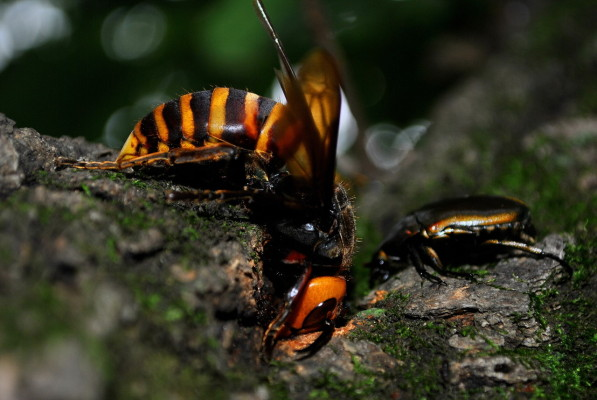asian_giant_hornet: (114, 77, 358, 365)
